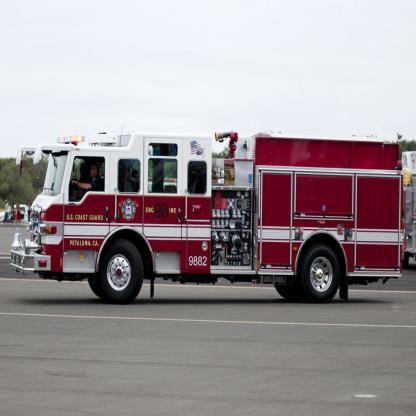fire-truck: (2, 92, 416, 365)
